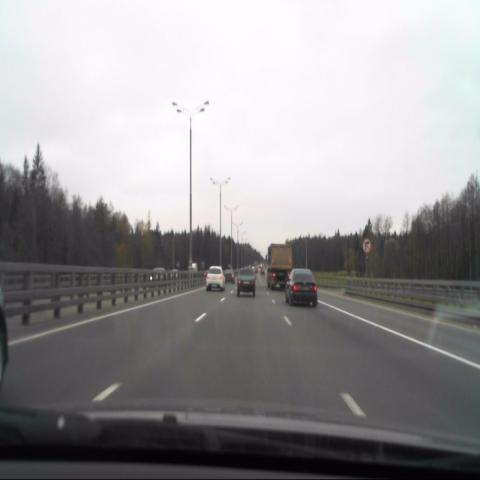3_18: (362, 237, 372, 256)
